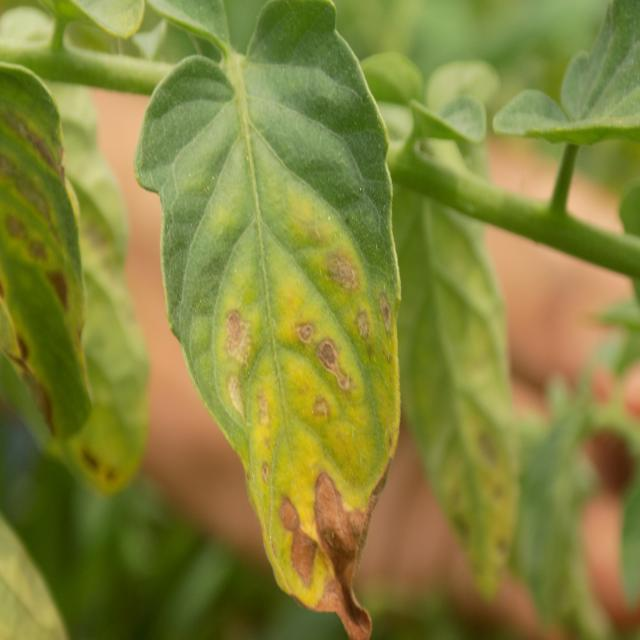tomato_early blight: (138, 0, 397, 640)
